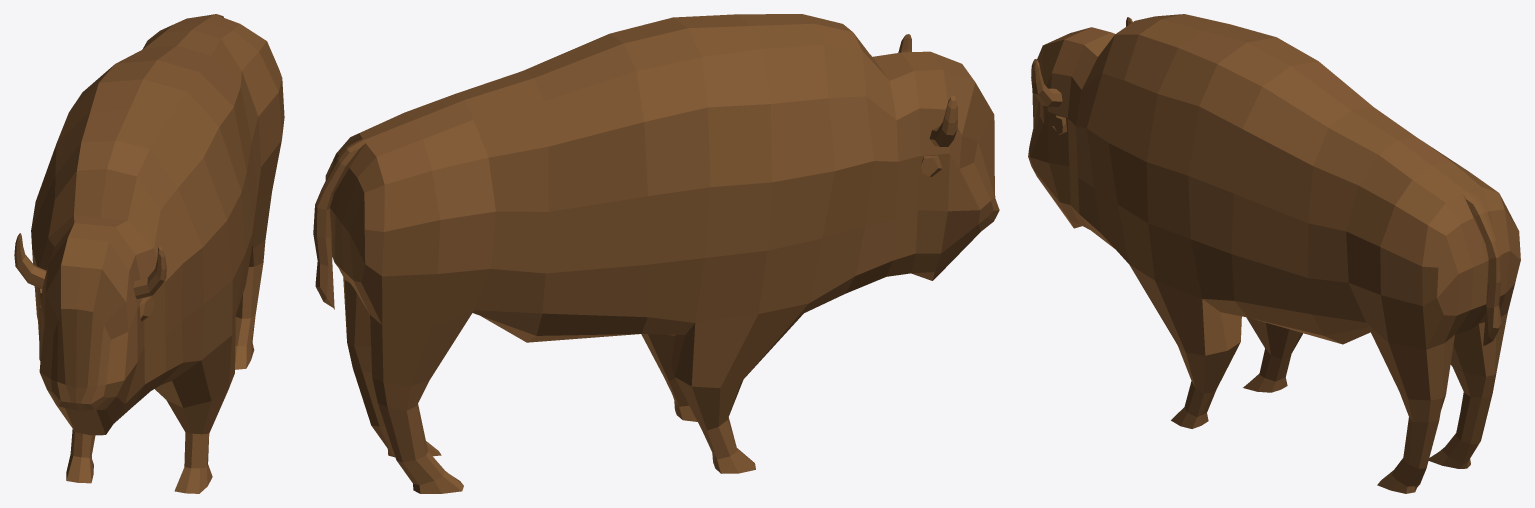
Rendered from bizon_final_plane.glb.
3 renders of one model, left to right at view 1: azimuth 30°, elevation 25°; view 2: azimuth 150°, elevation 25°; view 3: azimuth 270°, elevation 25°, orthographic. The views are drawn at different scales.
Parts seen in each view (by area): view 1: bizon_final_plane; view 2: bizon_final_plane; view 3: bizon_final_plane.
Boxes of the visible parts, box(x1,y1,x2,y2) form: bizon_final_plane: box(14, 14, 284, 493); bizon_final_plane: box(313, 14, 999, 493); bizon_final_plane: box(1028, 14, 1520, 493).
Bounding box in the file's own units: 2.78 × 2.42 × 2.92.
